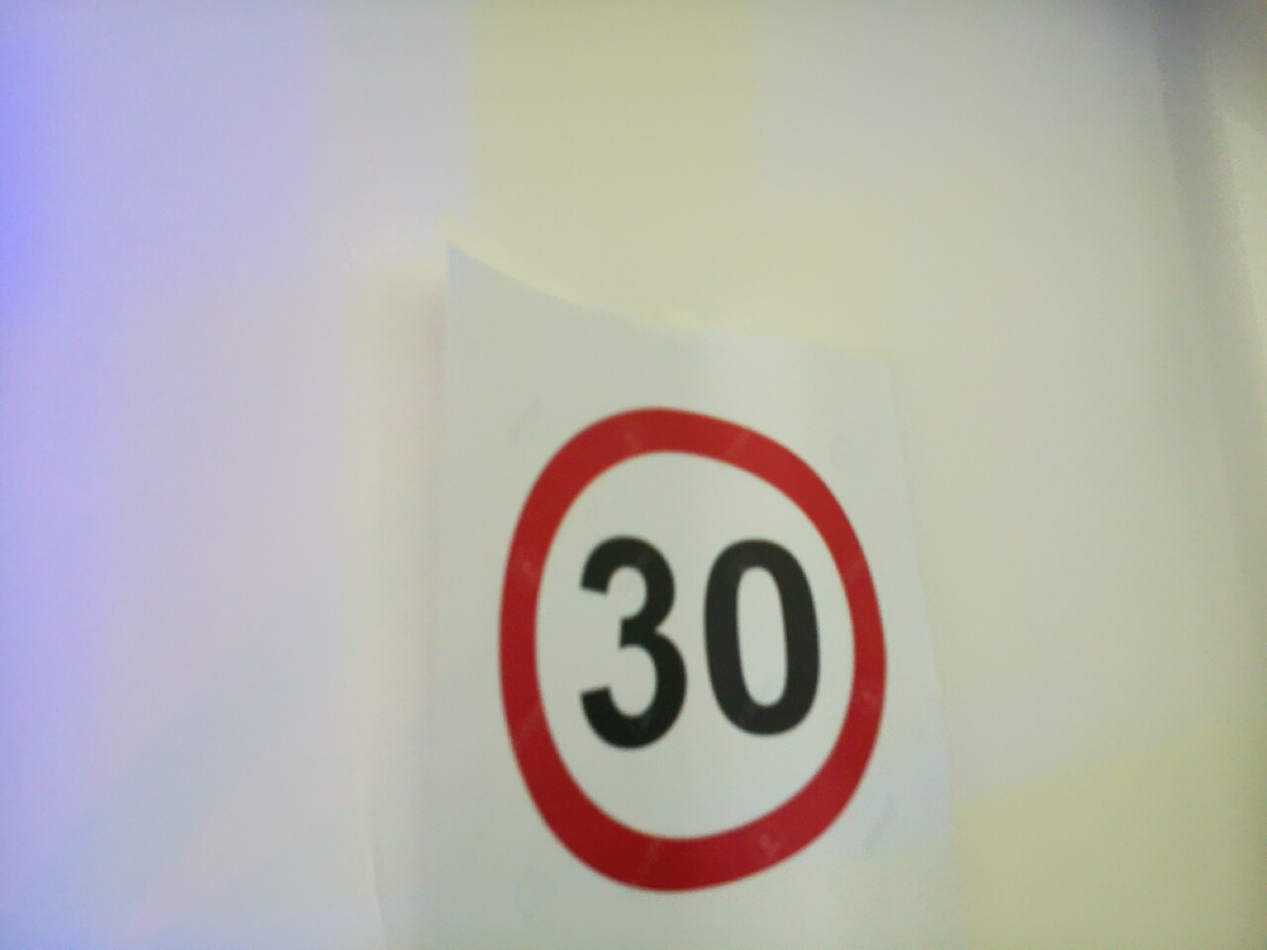speed_30: (698, 531, 826, 743)
